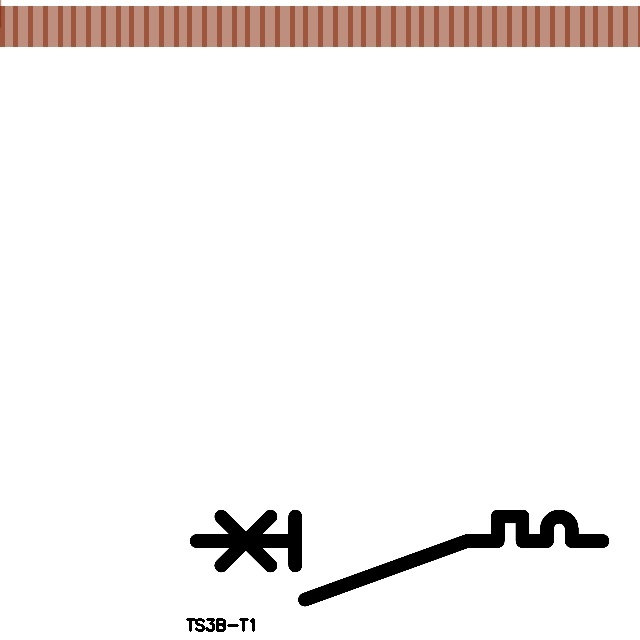interruptor_termomagnetico: (186, 506, 613, 610)
